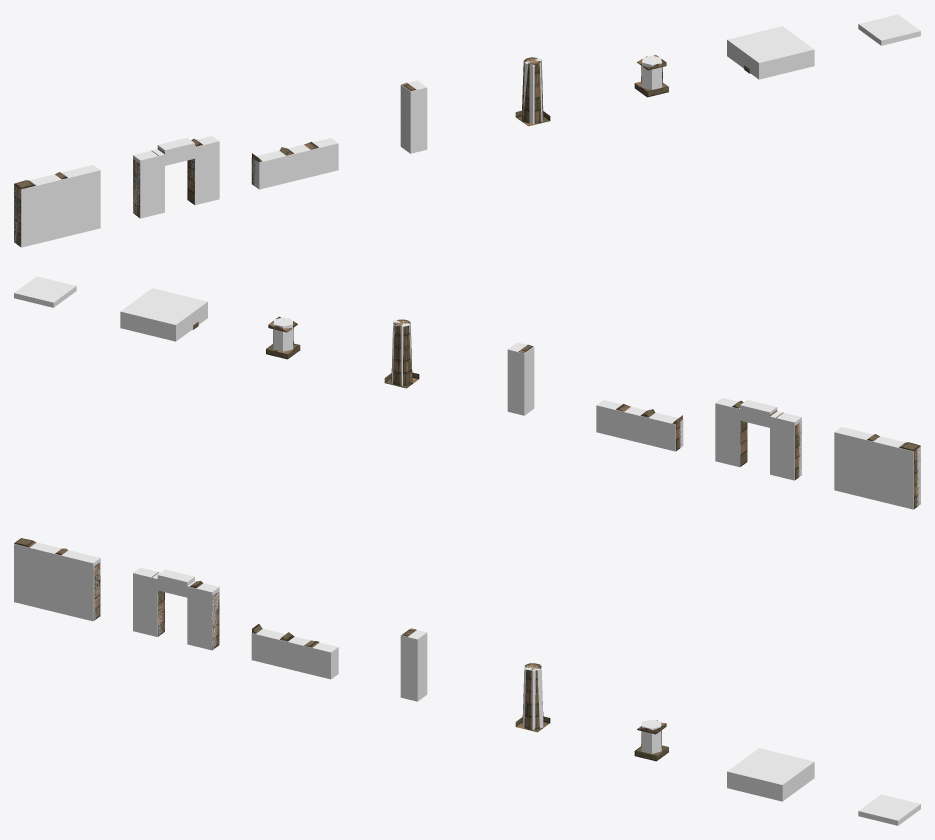
Rendered from M8RuinKit.glb.
The picture shows the model from 3 angles, top to bottom: view 1: azimuth 30°, elevation 25°; view 2: azimuth 150°, elevation 25°; view 3: azimuth 330°, elevation 25°; orthographic projection.
Parts seen in each view (by area): view 1: WallSegment_COL, WallDoorway_COL, RubblePile_COL, WallBroken_COL, CornerPost_COL, FloorSlab_COL, Pillar_LOD0, WallDoorway_LOD0, Pillar_COL, PillarBroken_COL, WallSegment_LOD0; view 2: WallSegment_COL, WallDoorway_COL, RubblePile_COL, WallBroken_COL, CornerPost_COL, Pillar_LOD0, FloorSlab_COL, WallDoorway_LOD0, PillarBroken_COL; view 3: WallSegment_COL, WallDoorway_COL, RubblePile_COL, WallBroken_COL, CornerPost_COL, FloorSlab_COL, Pillar_LOD0, WallDoorway_LOD0, Pillar_COL, PillarBroken_COL.
Boxes of the visible parts, bbox=[...] form: WallSegment_COL: bbox=[14, 165, 100, 247]; WallDoorway_COL: bbox=[133, 136, 219, 218]; RubblePile_COL: bbox=[727, 26, 814, 79]; WallBroken_COL: bbox=[251, 138, 338, 189]; CornerPost_COL: bbox=[400, 80, 427, 153]; FloorSlab_COL: bbox=[858, 14, 920, 45]; Pillar_LOD0: bbox=[515, 57, 550, 126]; WallDoorway_LOD0: bbox=[133, 139, 202, 217]; Pillar_COL: bbox=[523, 57, 543, 123]; PillarBroken_COL: bbox=[641, 55, 662, 89]; WallSegment_LOD0: bbox=[14, 172, 67, 246]; WallSegment_COL: bbox=[834, 427, 920, 509]; WallDoorway_COL: bbox=[715, 398, 801, 480]; RubblePile_COL: bbox=[120, 288, 207, 341]; WallBroken_COL: bbox=[596, 400, 683, 451]; CornerPost_COL: bbox=[507, 342, 534, 415]; Pillar_LOD0: bbox=[384, 319, 419, 388]; FloorSlab_COL: bbox=[14, 276, 76, 307]; WallDoorway_LOD0: bbox=[732, 401, 801, 479]; PillarBroken_COL: bbox=[273, 317, 293, 351]; WallSegment_COL: bbox=[14, 542, 100, 621]; WallDoorway_COL: bbox=[133, 567, 219, 650]; RubblePile_COL: bbox=[727, 748, 814, 801]; WallBroken_COL: bbox=[251, 628, 338, 679]; CornerPost_COL: bbox=[400, 628, 427, 701]; FloorSlab_COL: bbox=[858, 794, 920, 825]; Pillar_LOD0: bbox=[515, 663, 550, 732]; WallDoorway_LOD0: bbox=[152, 572, 219, 649]; Pillar_COL: bbox=[522, 665, 543, 729]; PillarBroken_COL: bbox=[641, 719, 661, 753].
Size of the model in its own units: 90 by 6.23 by 5.6.
Materials: 2 (1 with a texture image).
